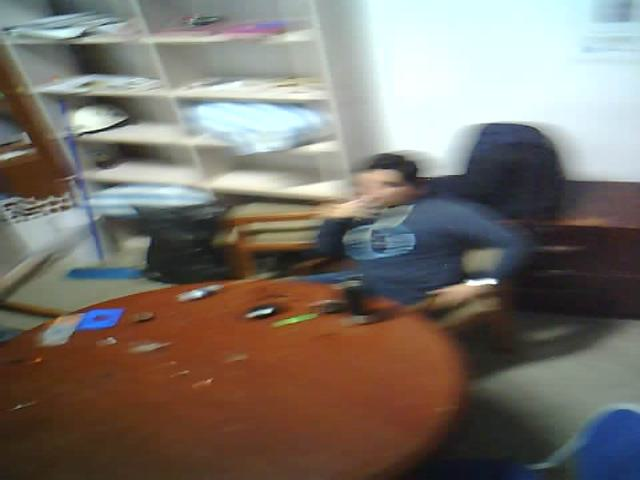person: (316, 119, 547, 339)
